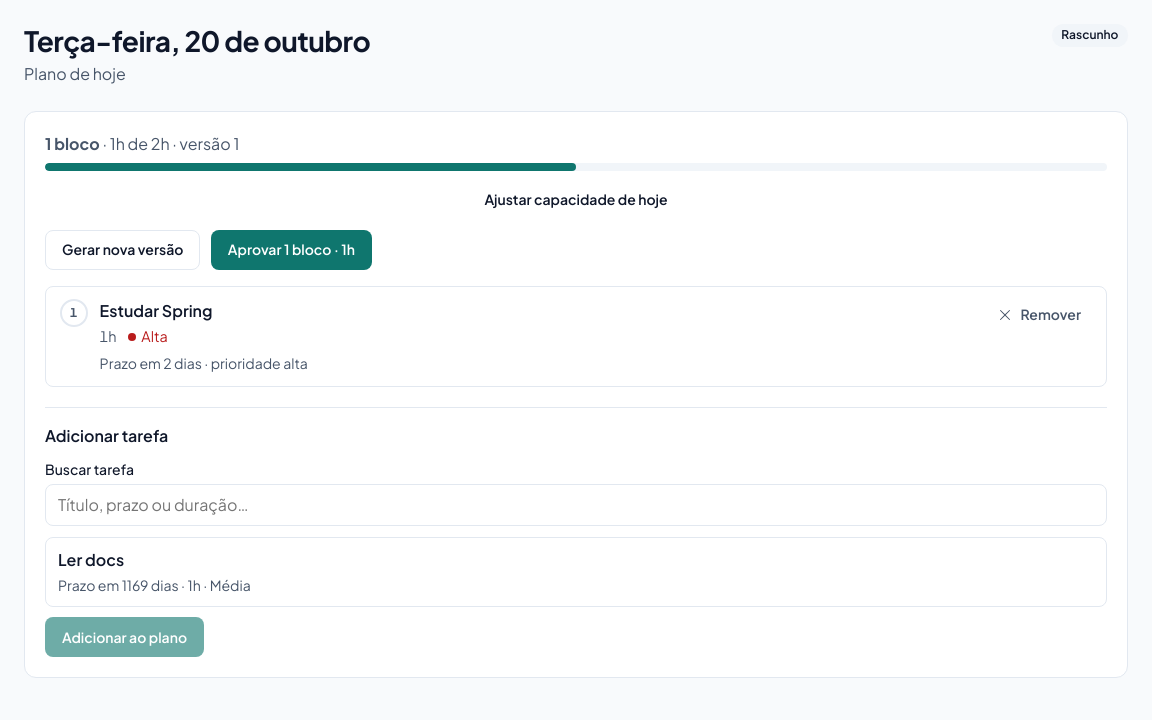
Test: HomePage — plano do dia › F3 — remover bloco › T9: erro no DELETE restaura o bloco e oferece tentar de novo
Click the button with aria-label "remover estudar spring" at (1039, 315), box [985,299,1092,331]
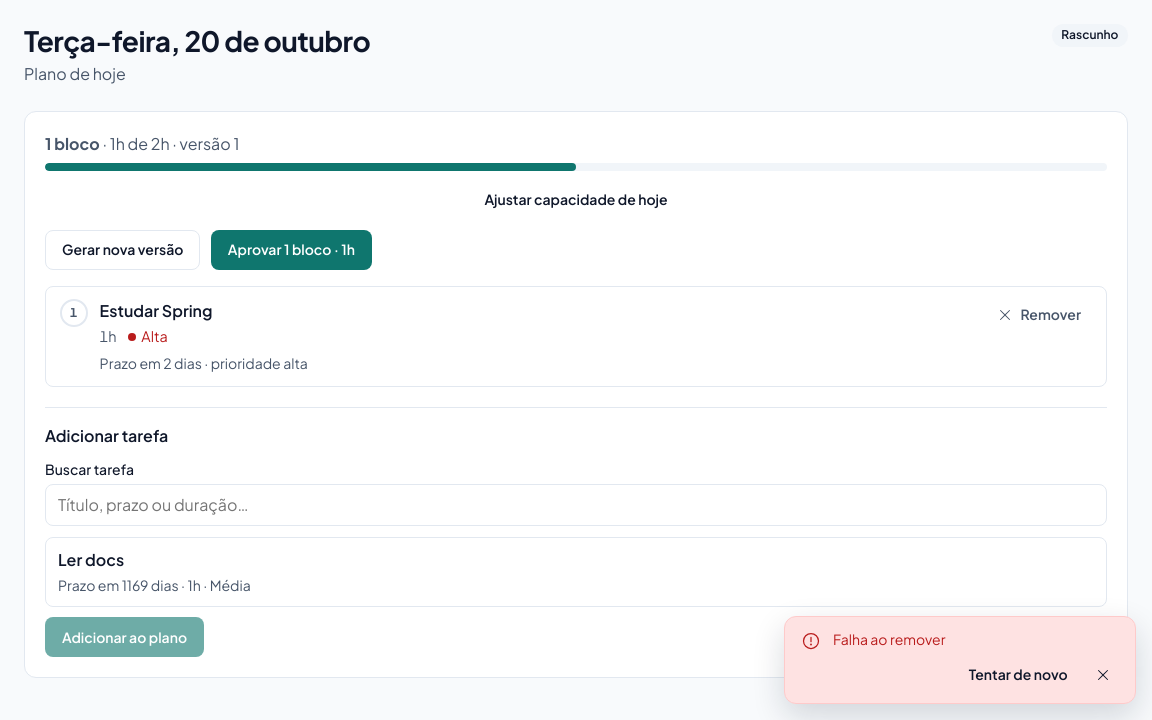
Expected: the link "Estudar Spring" is shown, [100,299,212,323]
Result: the text "Falha ao remover" is shown at [833,630,945,648]
Result: the button "Tentar de novo" is shown at [957,659,1079,691]
